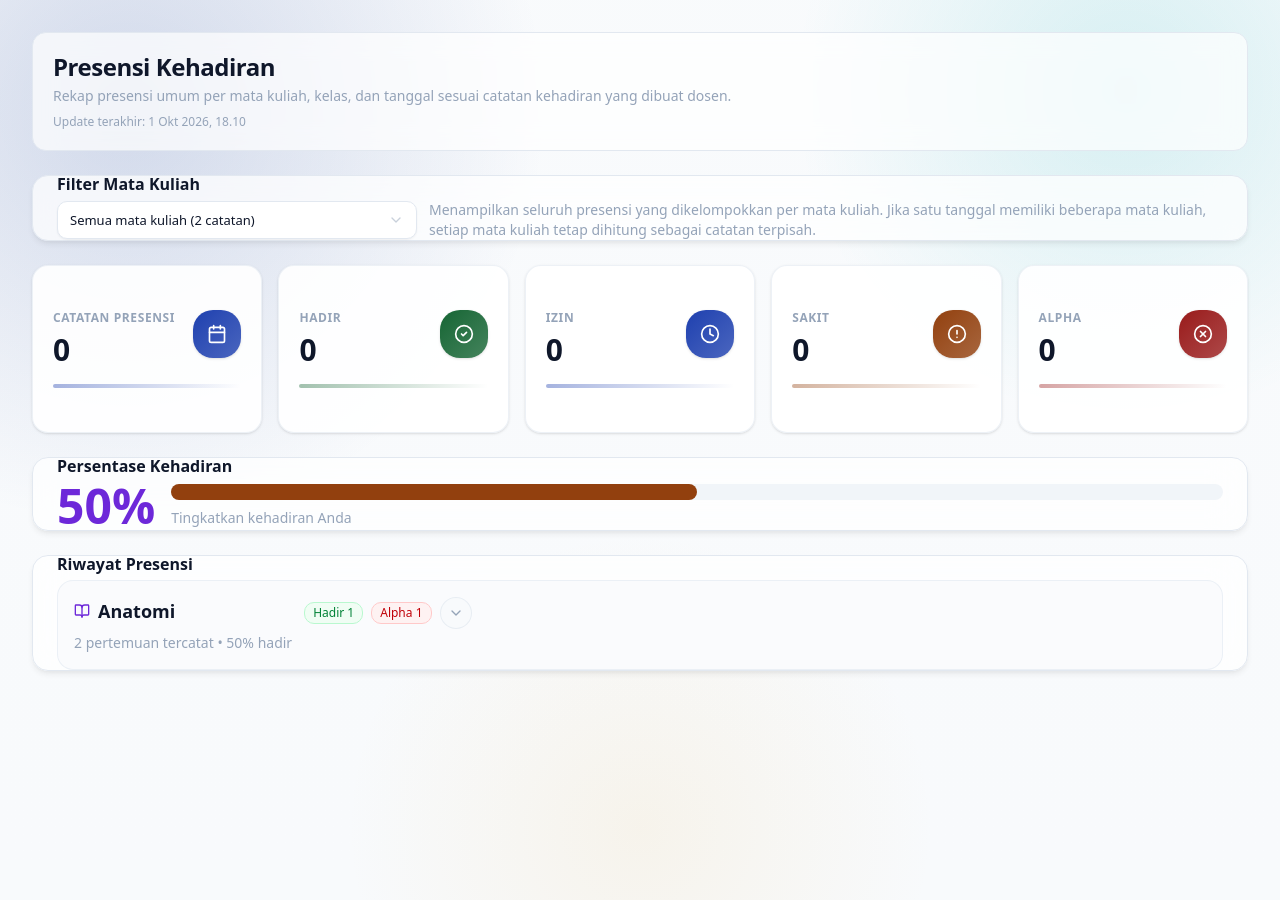
Test: Mahasiswa PresensiPage › menampilkan tabel presensi umum tanpa kolom lab
Click the button "Anatomi 2 pertemuan tercatat • 50% hadir Hadir 1 Alpha 1": coordinates (137, 611) [58,581,1222,669]
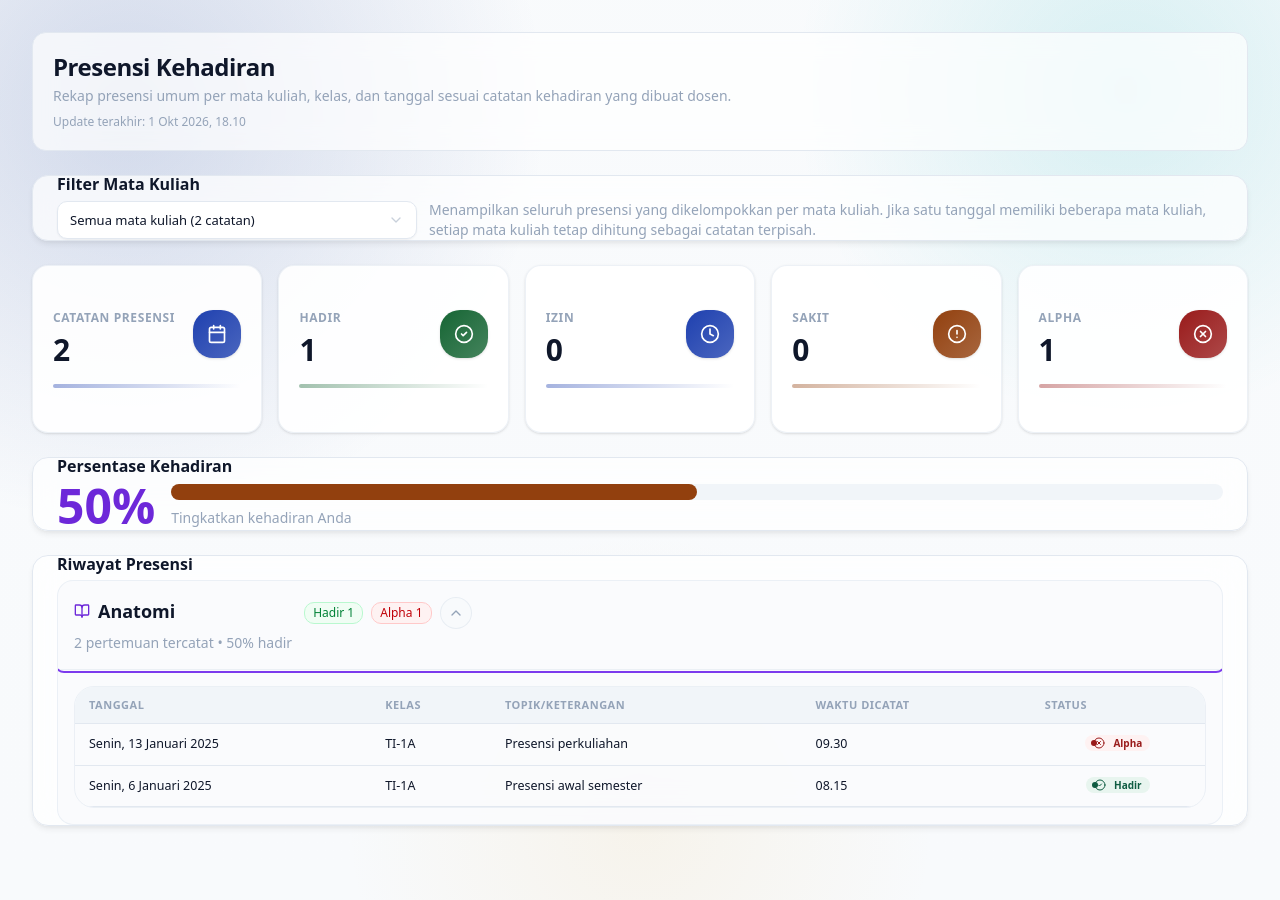
Expected: the column heading "Waktu Dicatat" is shown, [802,687,1031,723]
Expected: the column heading "Topik/Keterangan" is shown, [491,687,802,723]
